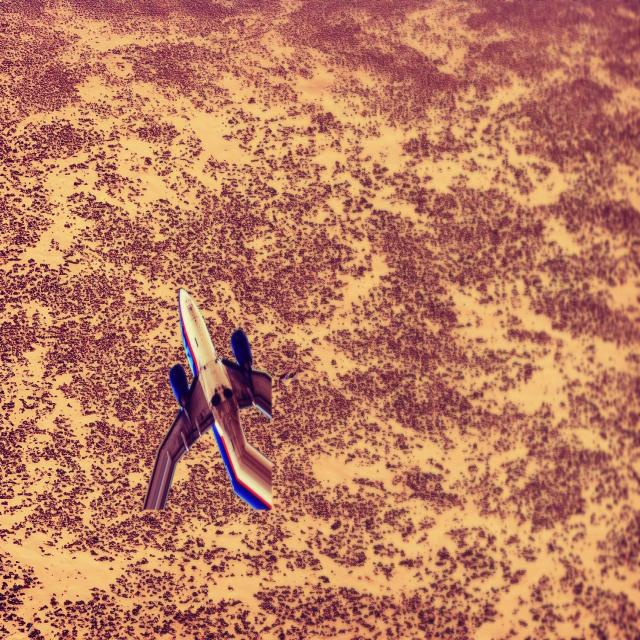airplane: (142, 286, 273, 512)
